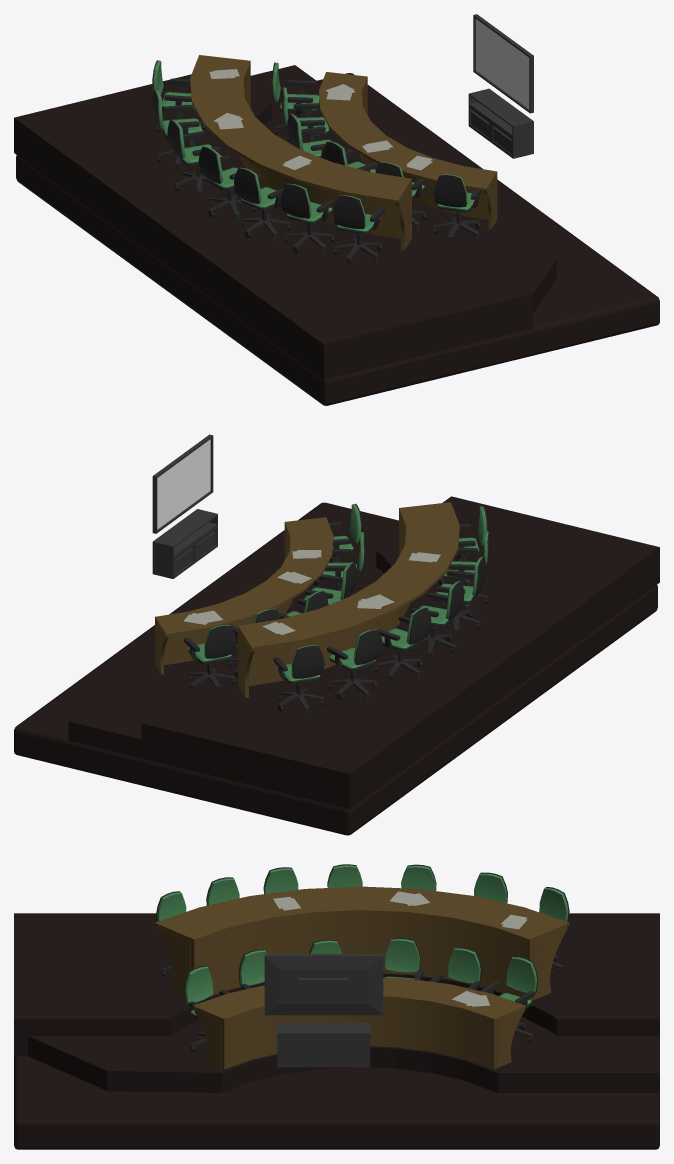
File: Reunião.fbx
3 views of the same model, one above another, from view 1: azimuth 30°, elevation 25°; view 2: azimuth 150°, elevation 25°; view 3: azimuth 270°, elevation 25° (orthographic). The views are drawn at different scales.
Visible parts, largest first — view 1: Plano.048, Chao Reuniao, Cilindro.007, Cubo.067, Cilindro.021, Cubo.091, Cubo.090, Cubo.058, Cubo.057, Cubo.047, Cubo.059, Cubo.056 (+8 smaller); view 2: Plano.048, Chao Reuniao, Cilindro.007, Cubo.067, Cilindro.021, Cubo.091, Cubo.090, Cubo.054, Cubo.053, Cubo.055, Cubo.052, Cubo.056 (+6 smaller); view 3: Chao Reuniao, Plano.048, Cilindro.007, Cubo.067, Cilindro.021, Cubo.091, Cubo.090, Cubo.052, Cubo.050, Cubo.047, Cubo.051, Cubo.053 (+7 smaller).
Boxes of the visible parts, <box> form: Plano.048: <box>14,74,532,379</box>; Chao Reuniao: <box>16,73,659,405</box>; Cilindro.007: <box>190,55,411,250</box>; Cubo.067: <box>250,65,556,313</box>; Cilindro.021: <box>319,72,497,228</box>; Cubo.091: <box>473,14,533,113</box>; Cubo.090: <box>468,88,533,158</box>; Cubo.058: <box>333,195,384,264</box>; Cubo.057: <box>280,183,335,253</box>; Cubo.047: <box>433,174,482,240</box>; Cubo.059: <box>234,167,289,240</box>; Cubo.056: <box>198,146,255,220</box>; Plano.048: <box>141,496,659,809</box>; Chao Reuniao: <box>14,502,657,835</box>; Cilindro.007: <box>238,502,459,697</box>; Cubo.067: <box>68,522,398,764</box>; Cilindro.021: <box>155,517,333,674</box>; Cubo.091: <box>152,434,213,533</box>; Cubo.090: <box>152,509,217,578</box>; Cubo.054: <box>327,629,382,700</box>; Cubo.053: <box>273,645,324,714</box>; Cubo.055: <box>374,607,431,681</box>; Cubo.052: <box>184,625,236,687</box>; Cubo.056: <box>408,581,464,658</box>; Chao Reuniao: <box>14,1056,659,1149</box>; Plano.048: <box>14,913,659,1056</box>; Cilindro.007: <box>154,886,569,1000</box>; Cubo.067: <box>28,1017,659,1092</box>; Cilindro.021: <box>192,977,526,1069</box>; Cubo.091: <box>264,954,383,1015</box>; Cubo.090: <box>277,1023,370,1067</box>; Cubo.052: <box>481,956,538,1042</box>; Cubo.050: <box>385,937,423,980</box>; Cubo.047: <box>183,965,230,1051</box>; Cubo.051: <box>429,947,481,989</box>; Cubo.053: <box>539,887,569,973</box>.
Bounding box in the file's own units: 495 × 258 × 788.
